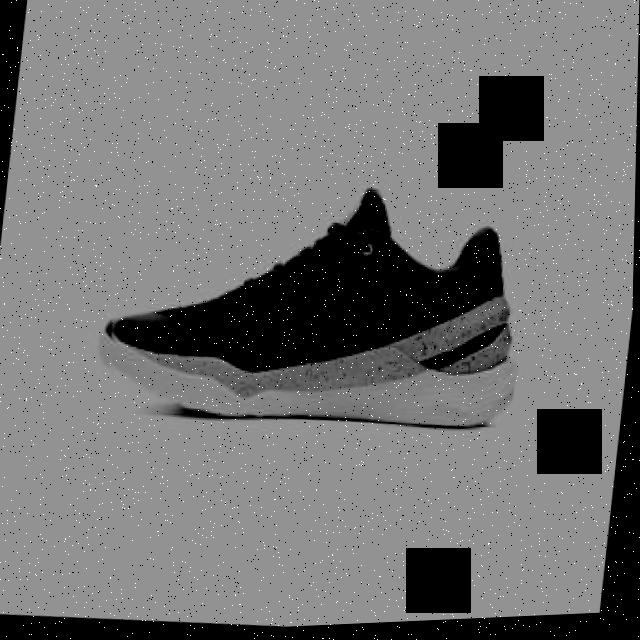shoe: (97, 165, 537, 447)
